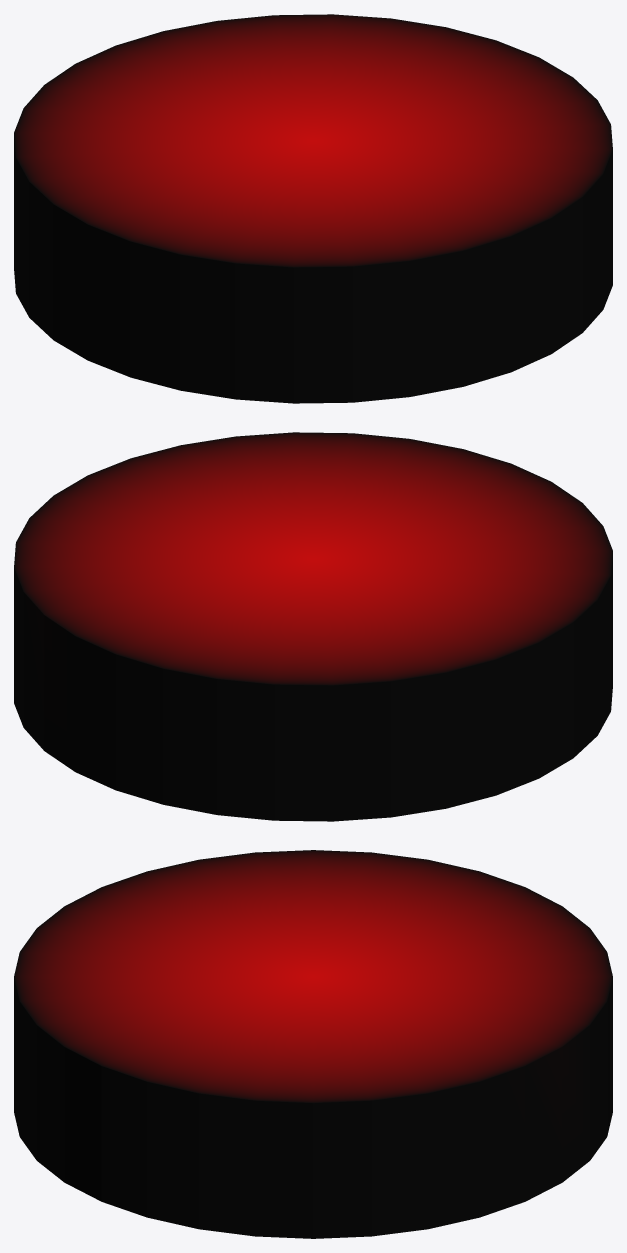
Rendered from PaintedCylinder.fbx.
3 views of the same model, one above another, from view 1: azimuth 30°, elevation 25°; view 2: azimuth 150°, elevation 25°; view 3: azimuth 270°, elevation 25° (orthographic).
Parts seen in each view (by area): view 1: Cylinder; view 2: Cylinder; view 3: Cylinder.
Part boxes in pixels (<box>): Cylinder: <box>14,14,612,403</box>; Cylinder: <box>14,432,612,821</box>; Cylinder: <box>14,850,612,1238</box>.
Size of the model in its own units: 400 by 400 by 100.
